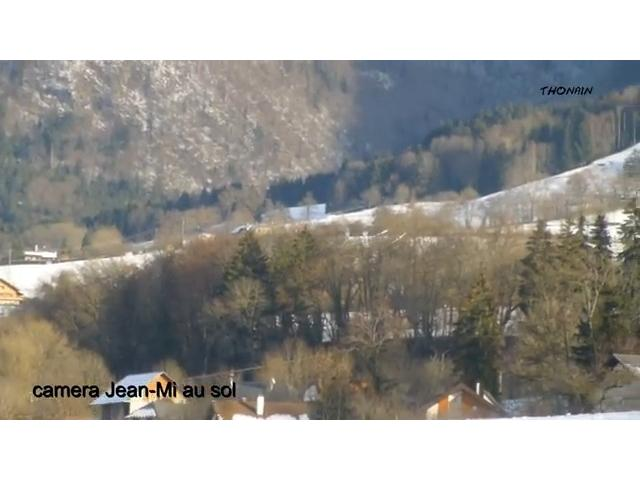Anti-Drone: (368, 223, 390, 241)
